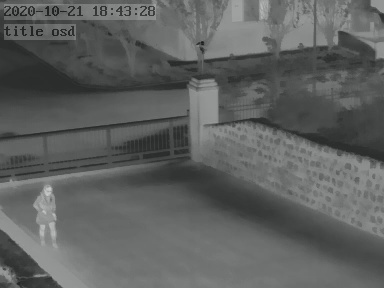person: (34, 181, 58, 245)
